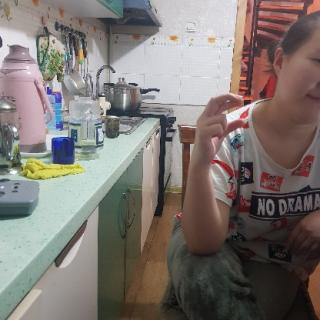DHELL: (187, 84, 248, 160)
